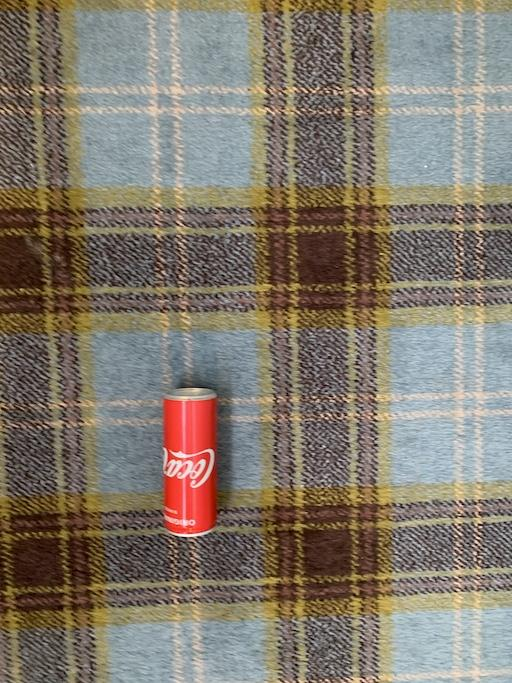Aluminum can: (141, 375, 239, 555)
